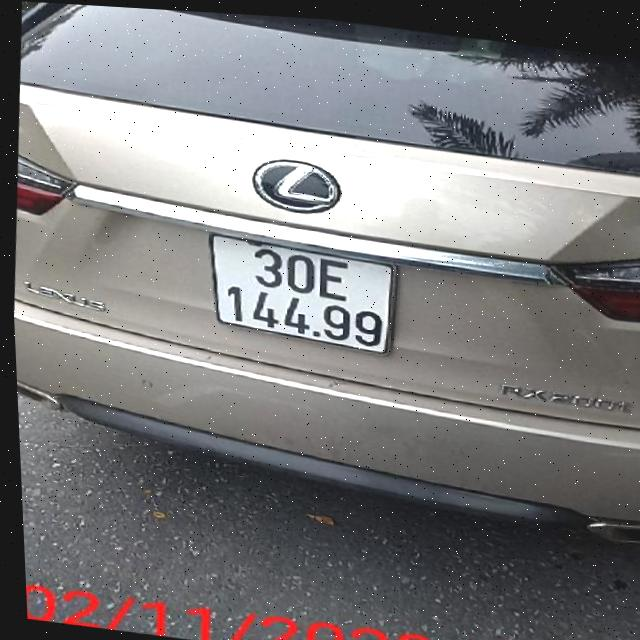car: (0, 0, 640, 551)
plate: (194, 224, 402, 358)
